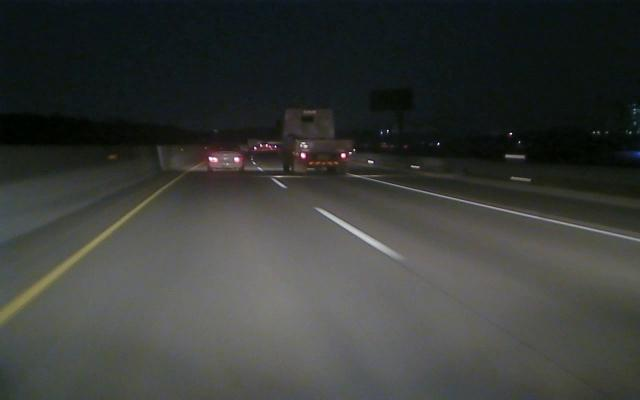lane: (3, 191, 158, 324), (344, 172, 637, 242), (273, 181, 406, 261)
